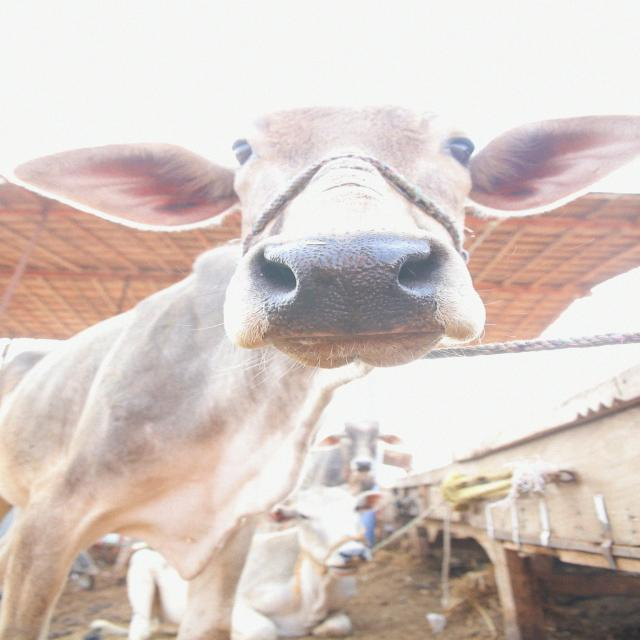muzzles: (244, 232, 453, 346)
